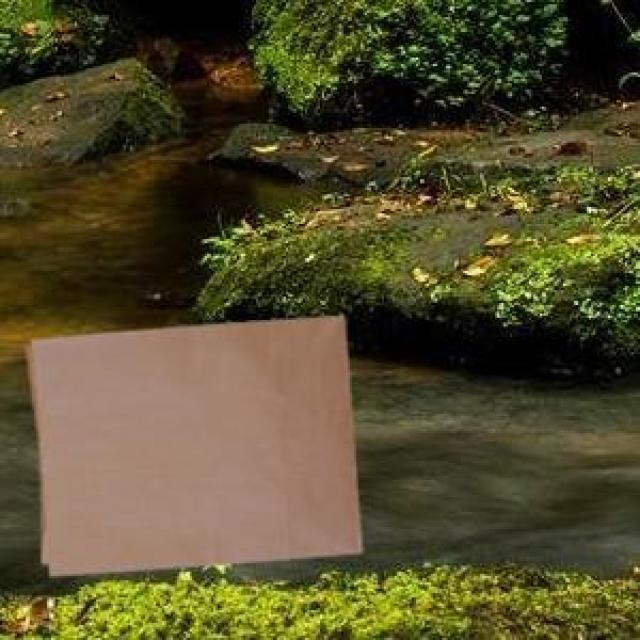paper: (24, 313, 358, 572)
